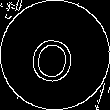O_N: (30, 26, 80, 84)
